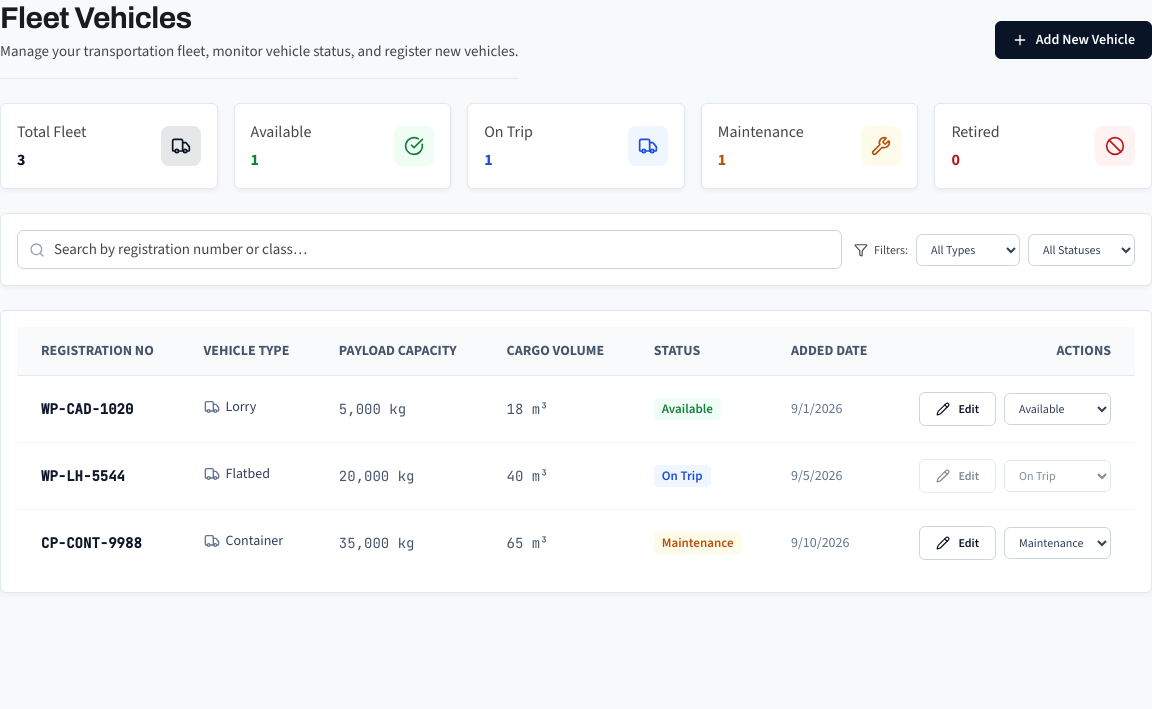
FleetVehiclesPage › displays user-friendly alert message when backend throws VehicleType conversion error
Click the button "Add New Vehicle".
click(1073, 40)  # box [995, 20, 1151, 58]
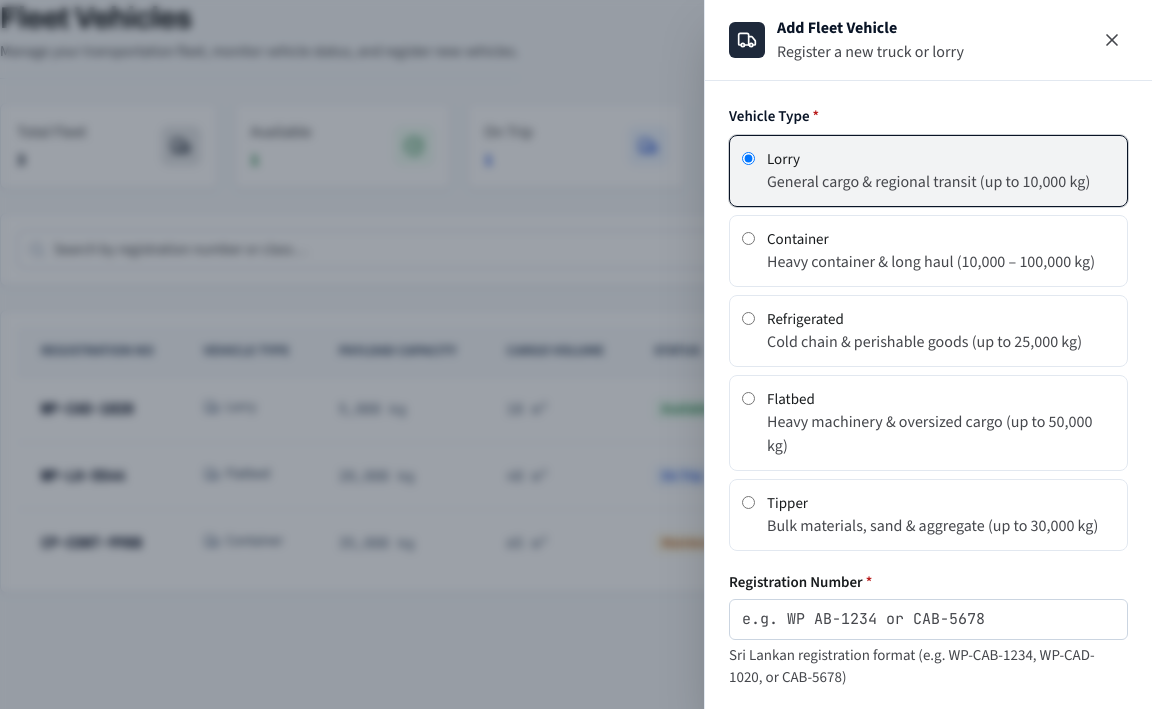
Type "WP-CAD-1020" into the field with placeholder "e.g. WP AB-1234 or CAB-5678".
click(928, 619); type("WP-CAD-1020")  # box [729, 599, 1128, 640]
(page scrolled)
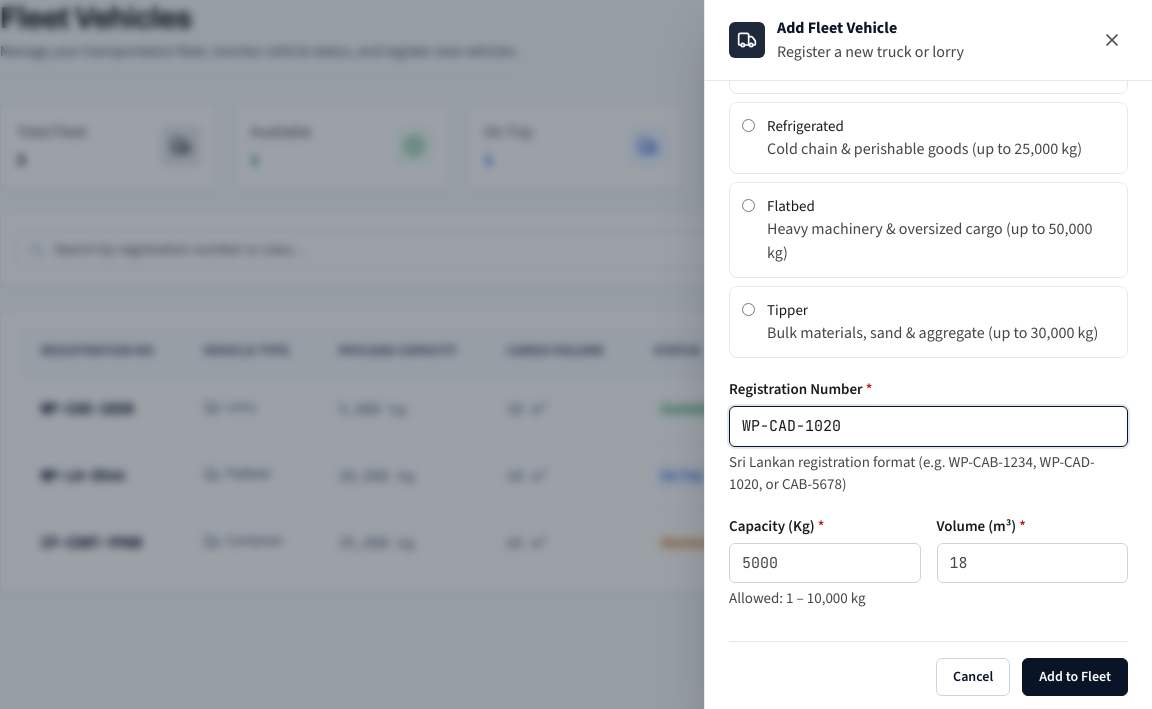
Type "3000" into the number field with placeholder "5000".
click(825, 563); type("3000")  # box [729, 542, 920, 583]
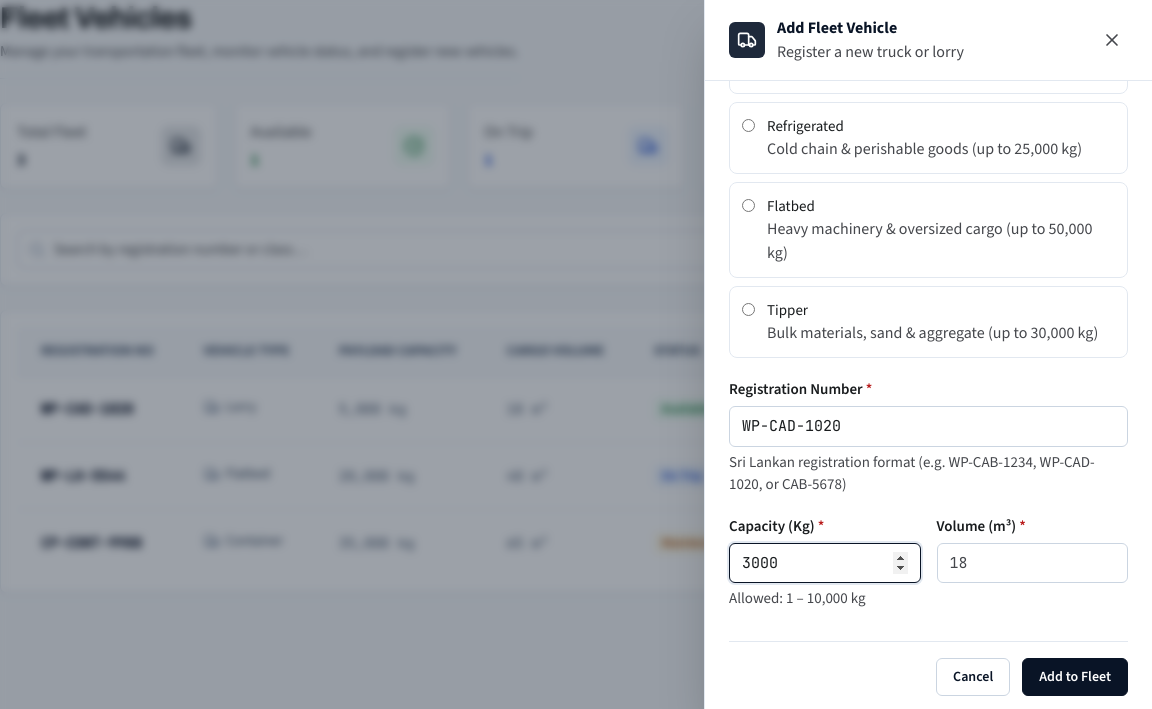
Type "10" into the number field with placeholder "18".
click(1032, 563); type("10")  # box [936, 542, 1128, 583]
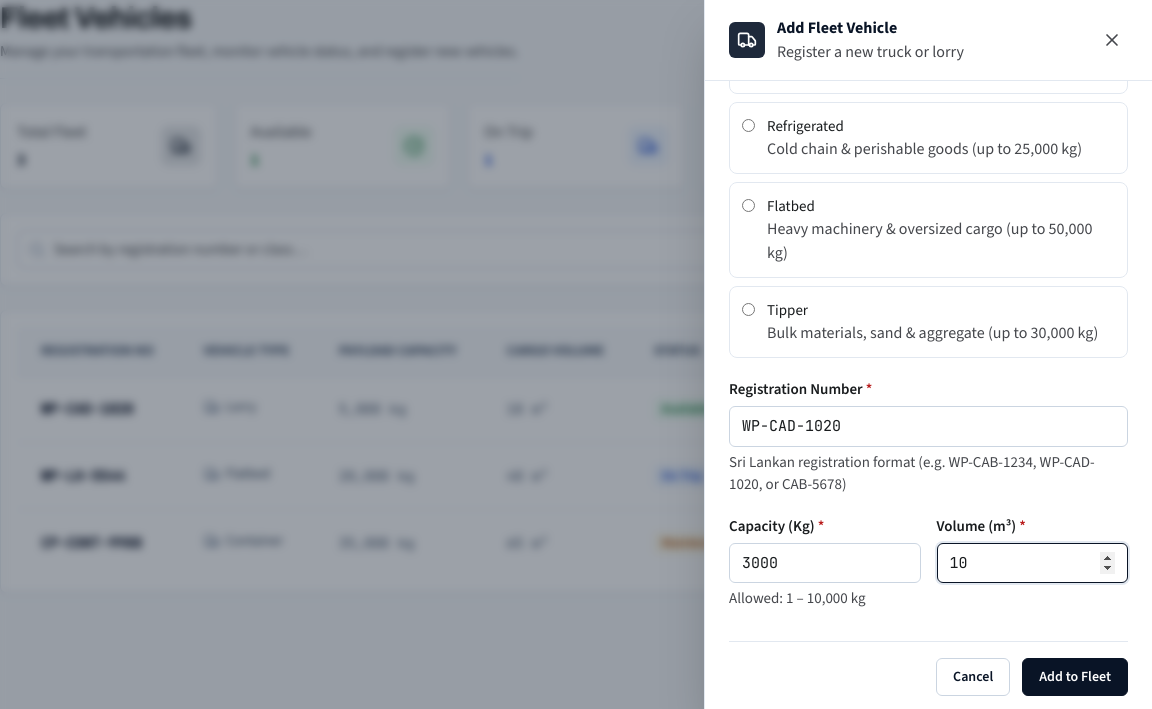
Click the button "Add to Fleet".
click(1075, 677)  # box [1022, 658, 1128, 696]
(page scrolled)
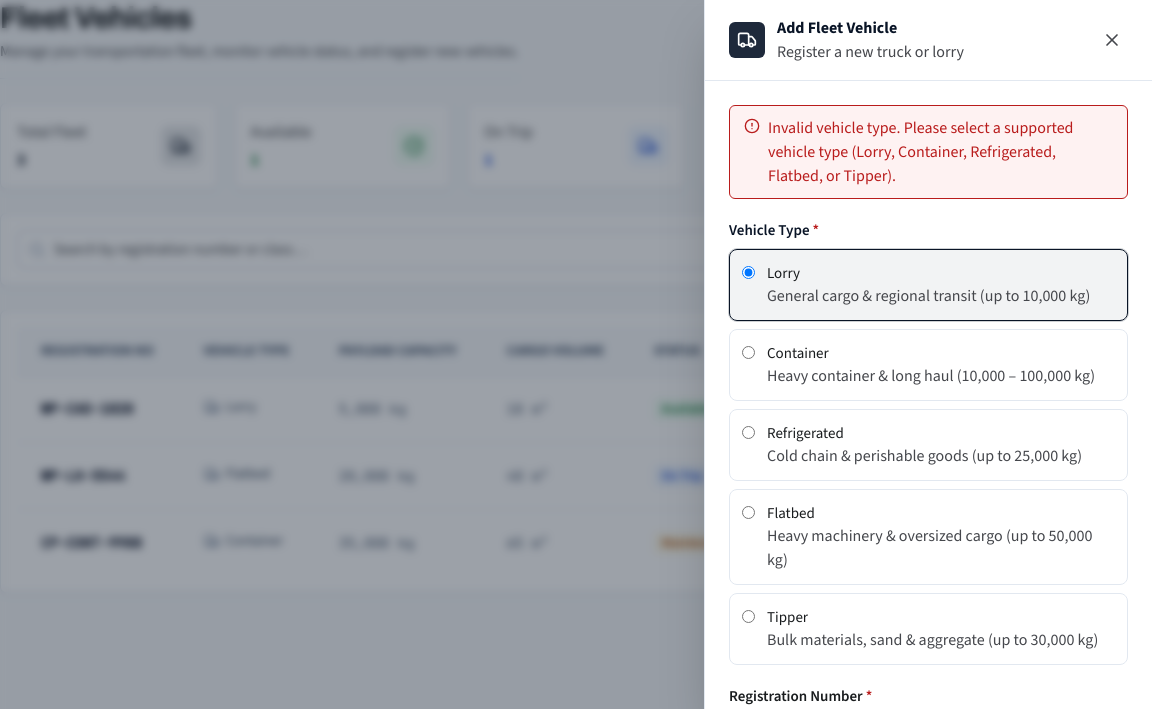
expect the text "Invalid vehicle type. Please select a supported vehicle type" is shown: met, box [768, 117, 1074, 186]
